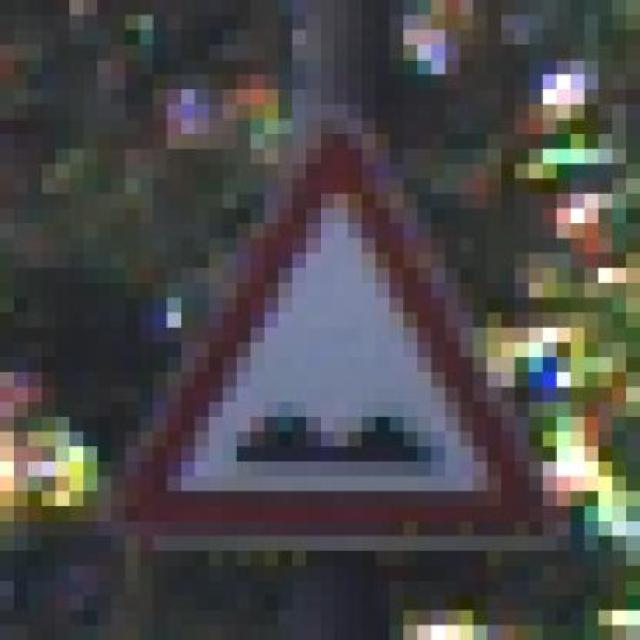Uneven Road: (83, 89, 571, 551)
